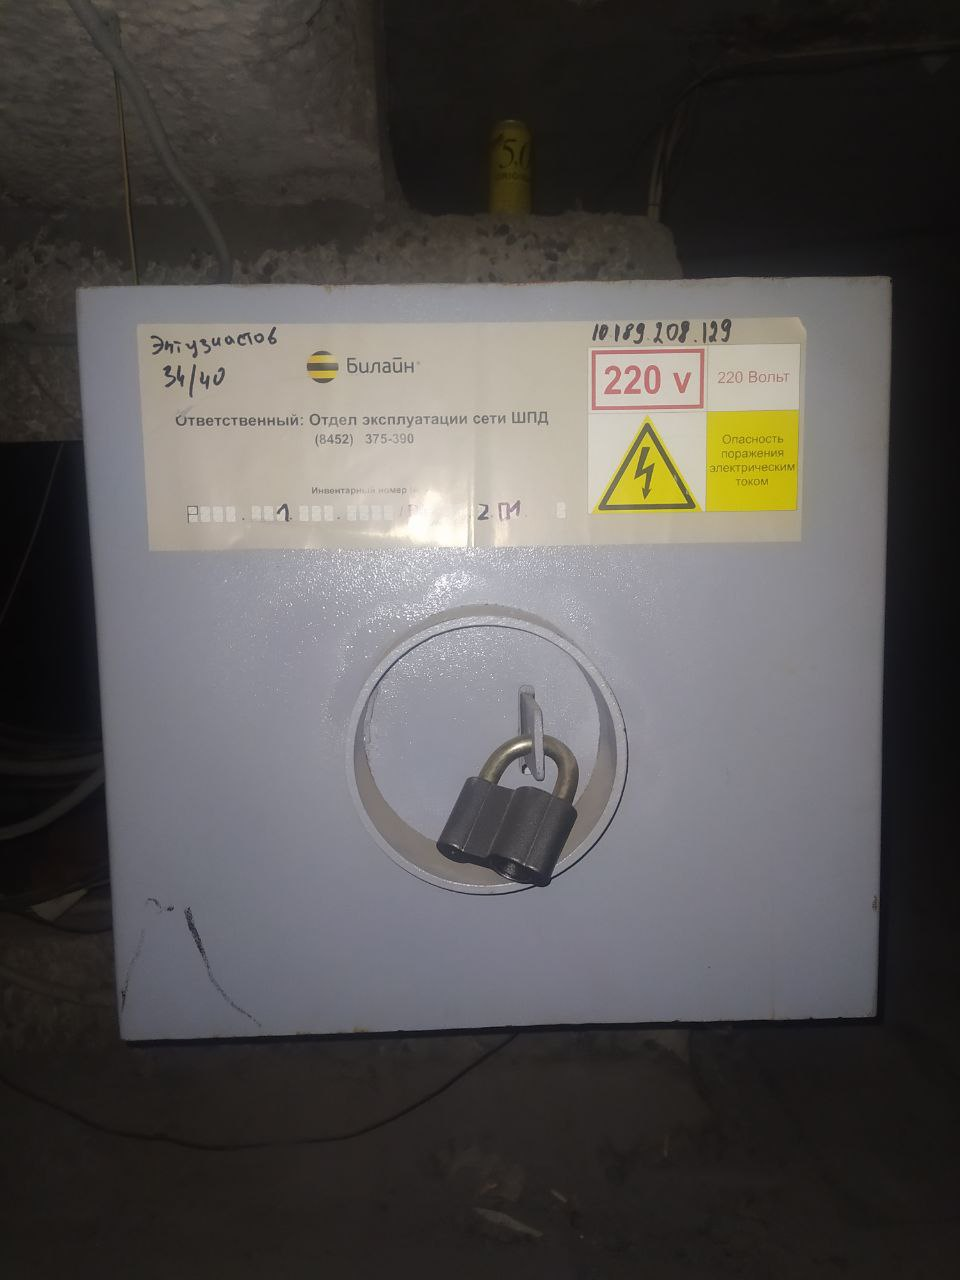shta-9: (68, 258, 899, 1055)
